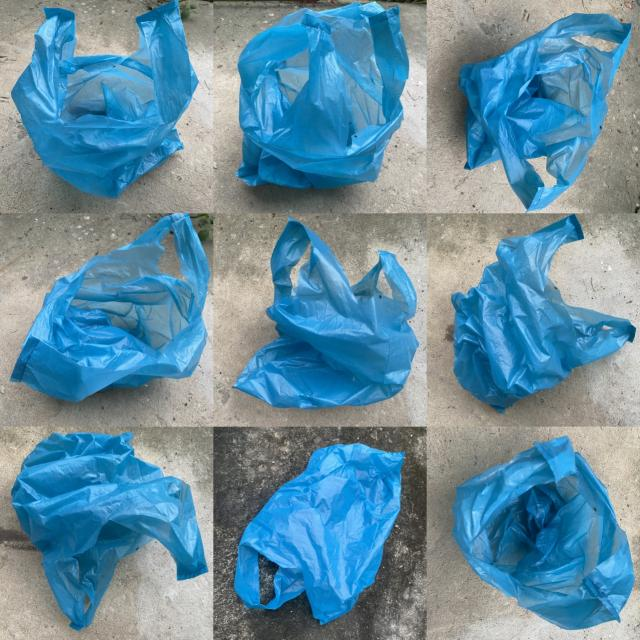Single-layer Plastic: (11, 432, 208, 629), (11, 0, 199, 199), (11, 214, 210, 401), (451, 214, 635, 412), (452, 436, 634, 629), (234, 219, 419, 408), (459, 14, 631, 211), (236, 2, 409, 189), (235, 444, 404, 624)
